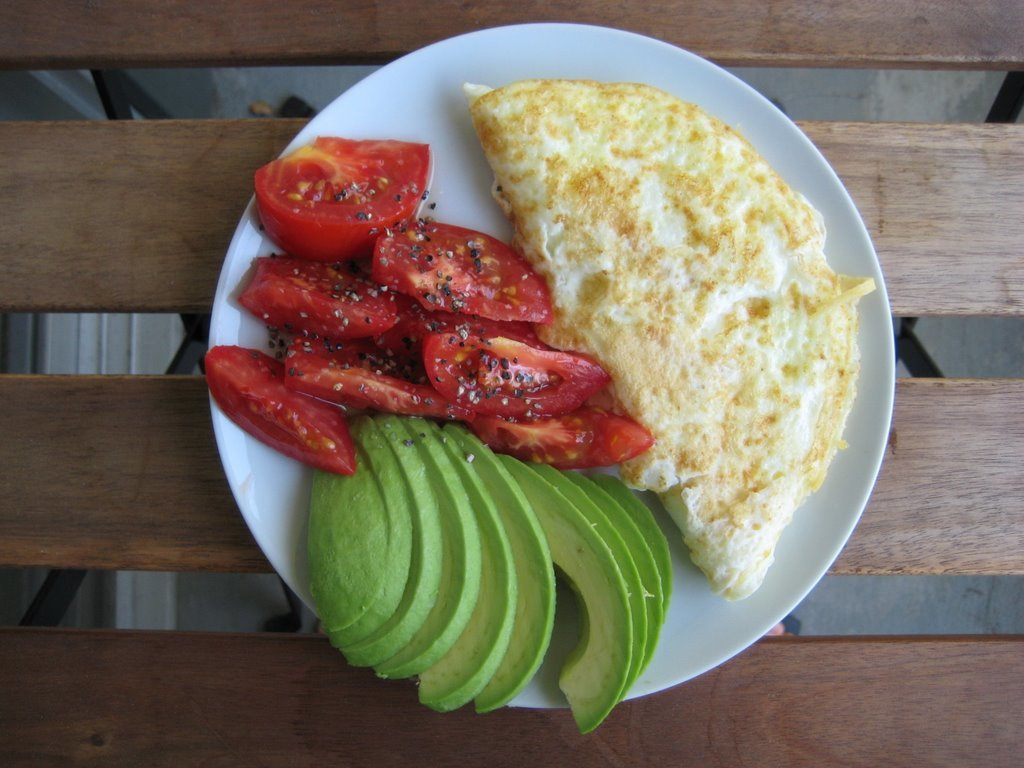Tomato: (252, 122, 439, 252), (204, 339, 357, 474), (366, 214, 547, 322), (423, 309, 606, 412), (234, 253, 401, 350), (272, 335, 444, 420), (465, 408, 647, 471)
